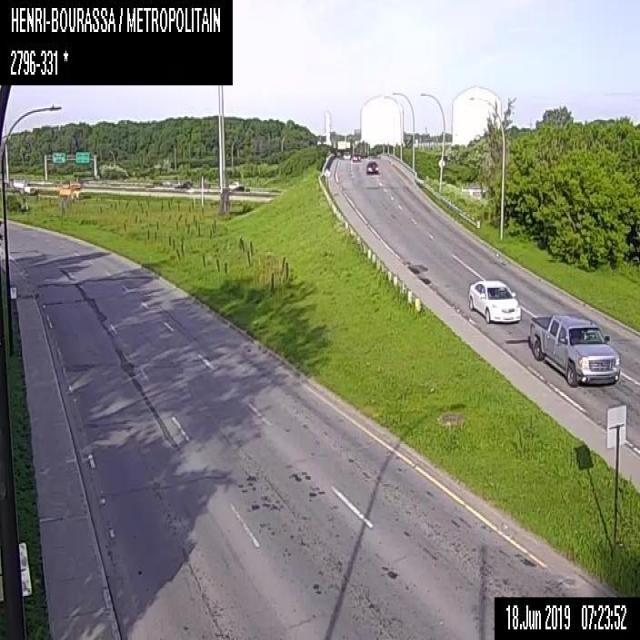vehicle: (527, 312, 621, 388), (466, 276, 521, 321), (58, 180, 83, 198), (12, 178, 34, 194), (366, 160, 378, 173), (342, 151, 350, 159), (352, 153, 359, 160)
